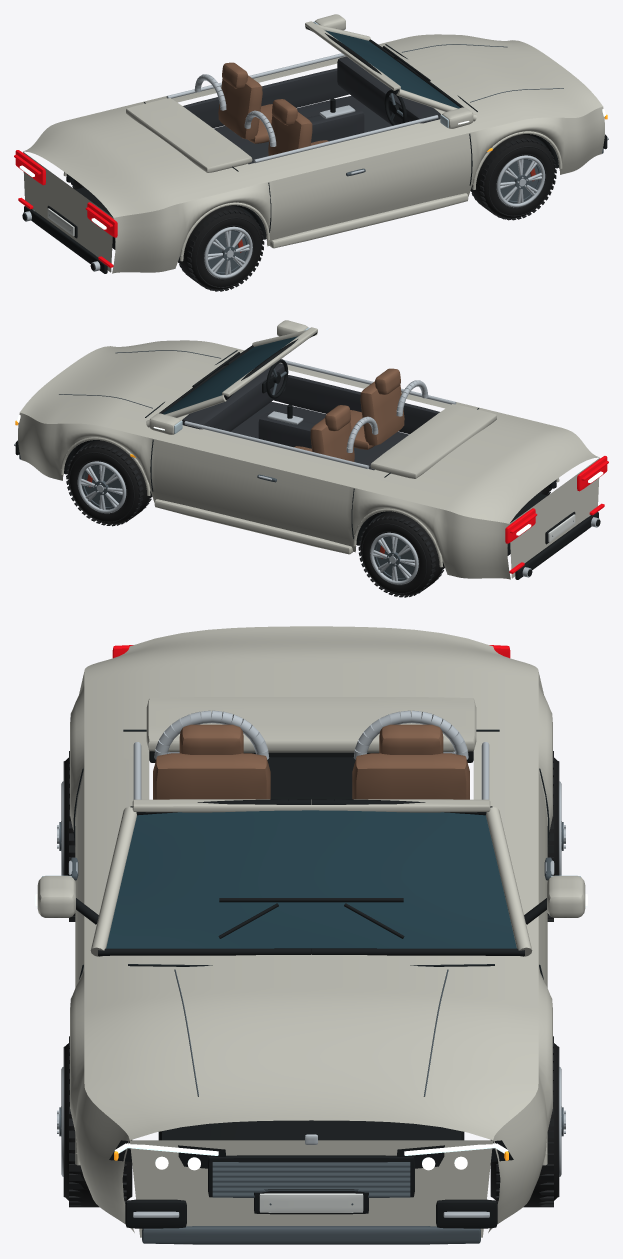
The model's file is cabriolet.glb.
3 views of the same model, one above another, from view 1: azimuth 30°, elevation 25°; view 2: azimuth 150°, elevation 25°; view 3: azimuth 270°, elevation 25° (orthographic). The views are drawn at different scales.
Parts seen in each view (by area): view 1: Paint / body colour, Charcoal upholstery, Tyre rubber, Satin aluminium, Leather seats, Satin black trim, Tyre tread edges, Graphite alloy, Smoked automotive glass, Rear light lenses; view 2: Paint / body colour, Charcoal upholstery, Tyre rubber, Satin aluminium, Leather seats, Satin black trim, Tyre tread edges, Graphite alloy, Smoked automotive glass, Rear light lenses; view 3: Paint / body colour, Smoked automotive glass, Satin black trim, Leather seats, Graphite alloy, Satin aluminium, Tyre rubber, Tyre tread edges, Plain number plates, LED daylight, Panel gaps.
Part boxes in pixels (x1=…): Paint / body colour: x1=23, y1=14, x2=604, y2=273; Charcoal upholstery: x1=183, y1=56, x2=440, y2=164; Tyre rubber: x1=73, y1=134, x2=554, y2=289; Satin aluminium: x1=23, y1=53, x2=608, y2=278; Leather seats: x1=218, y1=62, x2=328, y2=155; Satin black trim: x1=22, y1=26, x2=607, y2=273; Tyre tread edges: x1=71, y1=136, x2=556, y2=291; Graphite alloy: x1=49, y1=44, x2=603, y2=274; Smoked automotive glass: x1=325, y1=30, x2=460, y2=108; Rear light lenses: x1=14, y1=150, x2=117, y2=267; Paint / body colour: x1=18, y1=320, x2=599, y2=579; Charcoal upholstery: x1=182, y1=363, x2=439, y2=470; Tyre rubber: x1=68, y1=440, x2=549, y2=595; Satin aluminium: x1=14, y1=360, x2=599, y2=584; Leather seats: x1=294, y1=368, x2=404, y2=461; Satin black trim: x1=15, y1=332, x2=600, y2=579; Tyre tread edges: x1=66, y1=442, x2=551, y2=597; Graphite alloy: x1=19, y1=350, x2=573, y2=580; Smoked automotive glass: x1=162, y1=336, x2=297, y2=414; Rear light lenses: x1=505, y1=456, x2=608, y2=573; Paint / body colour: x1=37, y1=626, x2=585, y2=1237; Smoked automotive glass: x1=106, y1=810, x2=516, y2=948; Satin black trim: x1=76, y1=751, x2=546, y2=1228; Leather seats: x1=153, y1=724, x2=469, y2=799; Graphite alloy: x1=59, y1=822, x2=563, y2=1244; Satin aluminium: x1=57, y1=710, x2=565, y2=1217; Tyre rubber: x1=65, y1=757, x2=557, y2=1207; Tyre tread edges: x1=63, y1=751, x2=559, y2=1207; Plain number plates: x1=259, y1=1193, x2=363, y2=1212; LED daylight: x1=35, y1=894, x2=587, y2=1170; Panel gaps: x1=73, y1=729, x2=549, y2=979.
Size of the model in its own units: 4.59 by 1.28 by 2.16.
